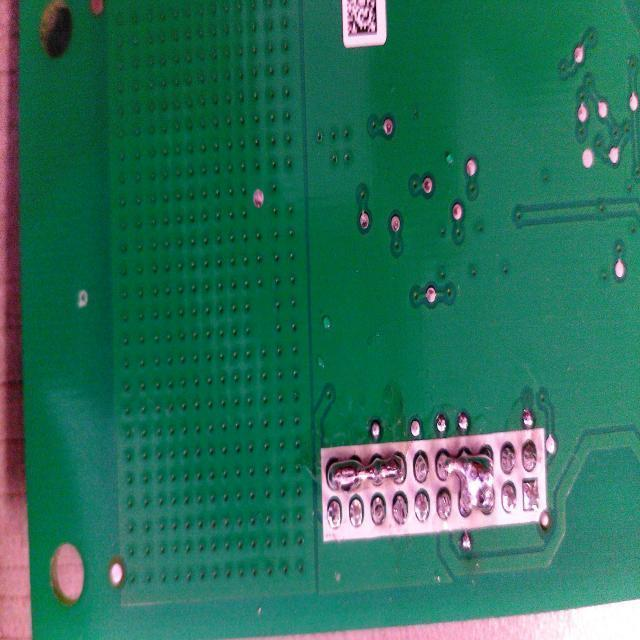Soldering shorted: (434, 443, 496, 532), (323, 441, 410, 494)
